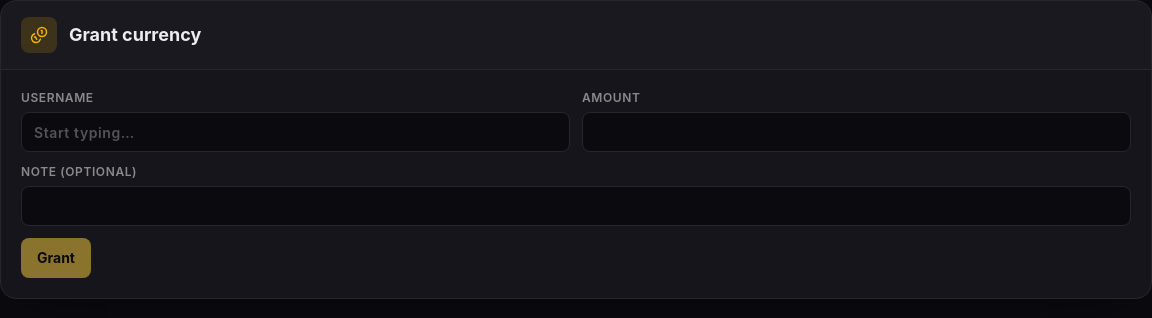
Test case: GrantPanel › picks with arrow keys and Enter
Type "sak" into the dropdown labelled "Username" at (296, 132), box [21, 112, 570, 152]
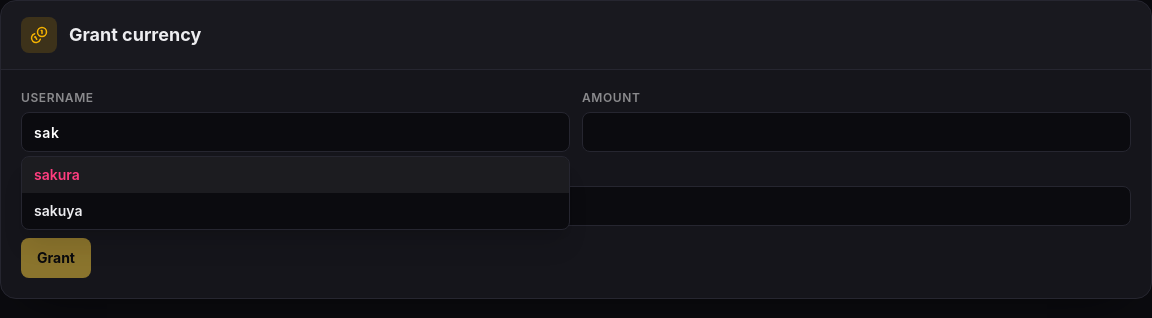
Expected: the option "sakuya" is shown, [34, 202, 82, 219]
Press ArrowDown in the dropdown labelled "Username", box [21, 112, 570, 152]
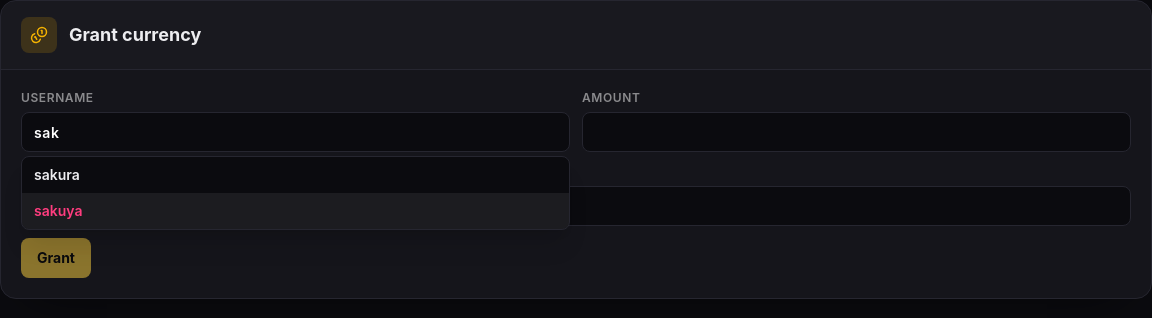
Press Enter in the dropdown labelled "Username", box [21, 112, 570, 152]
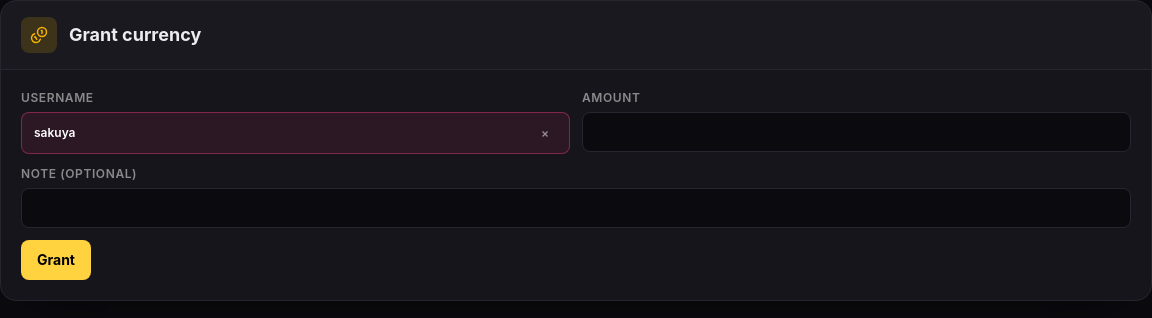
Expected: the text "sakuya" is shown, [34, 125, 76, 141]
Expected: the dropdown is gone
